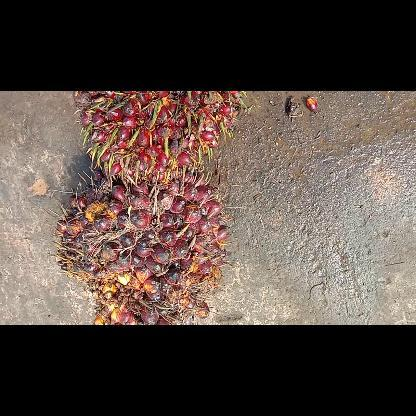Kurang masak: (72, 92, 246, 184)
TBS masak: (53, 168, 235, 324)
